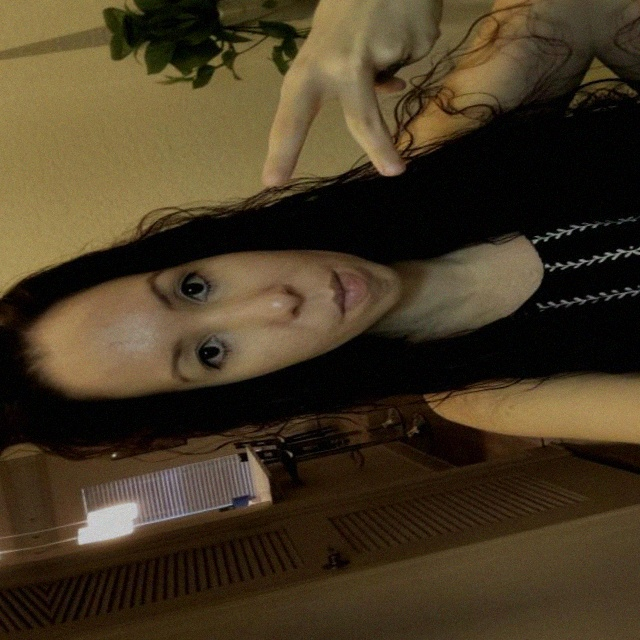Scissors: (228, 0, 483, 202)
